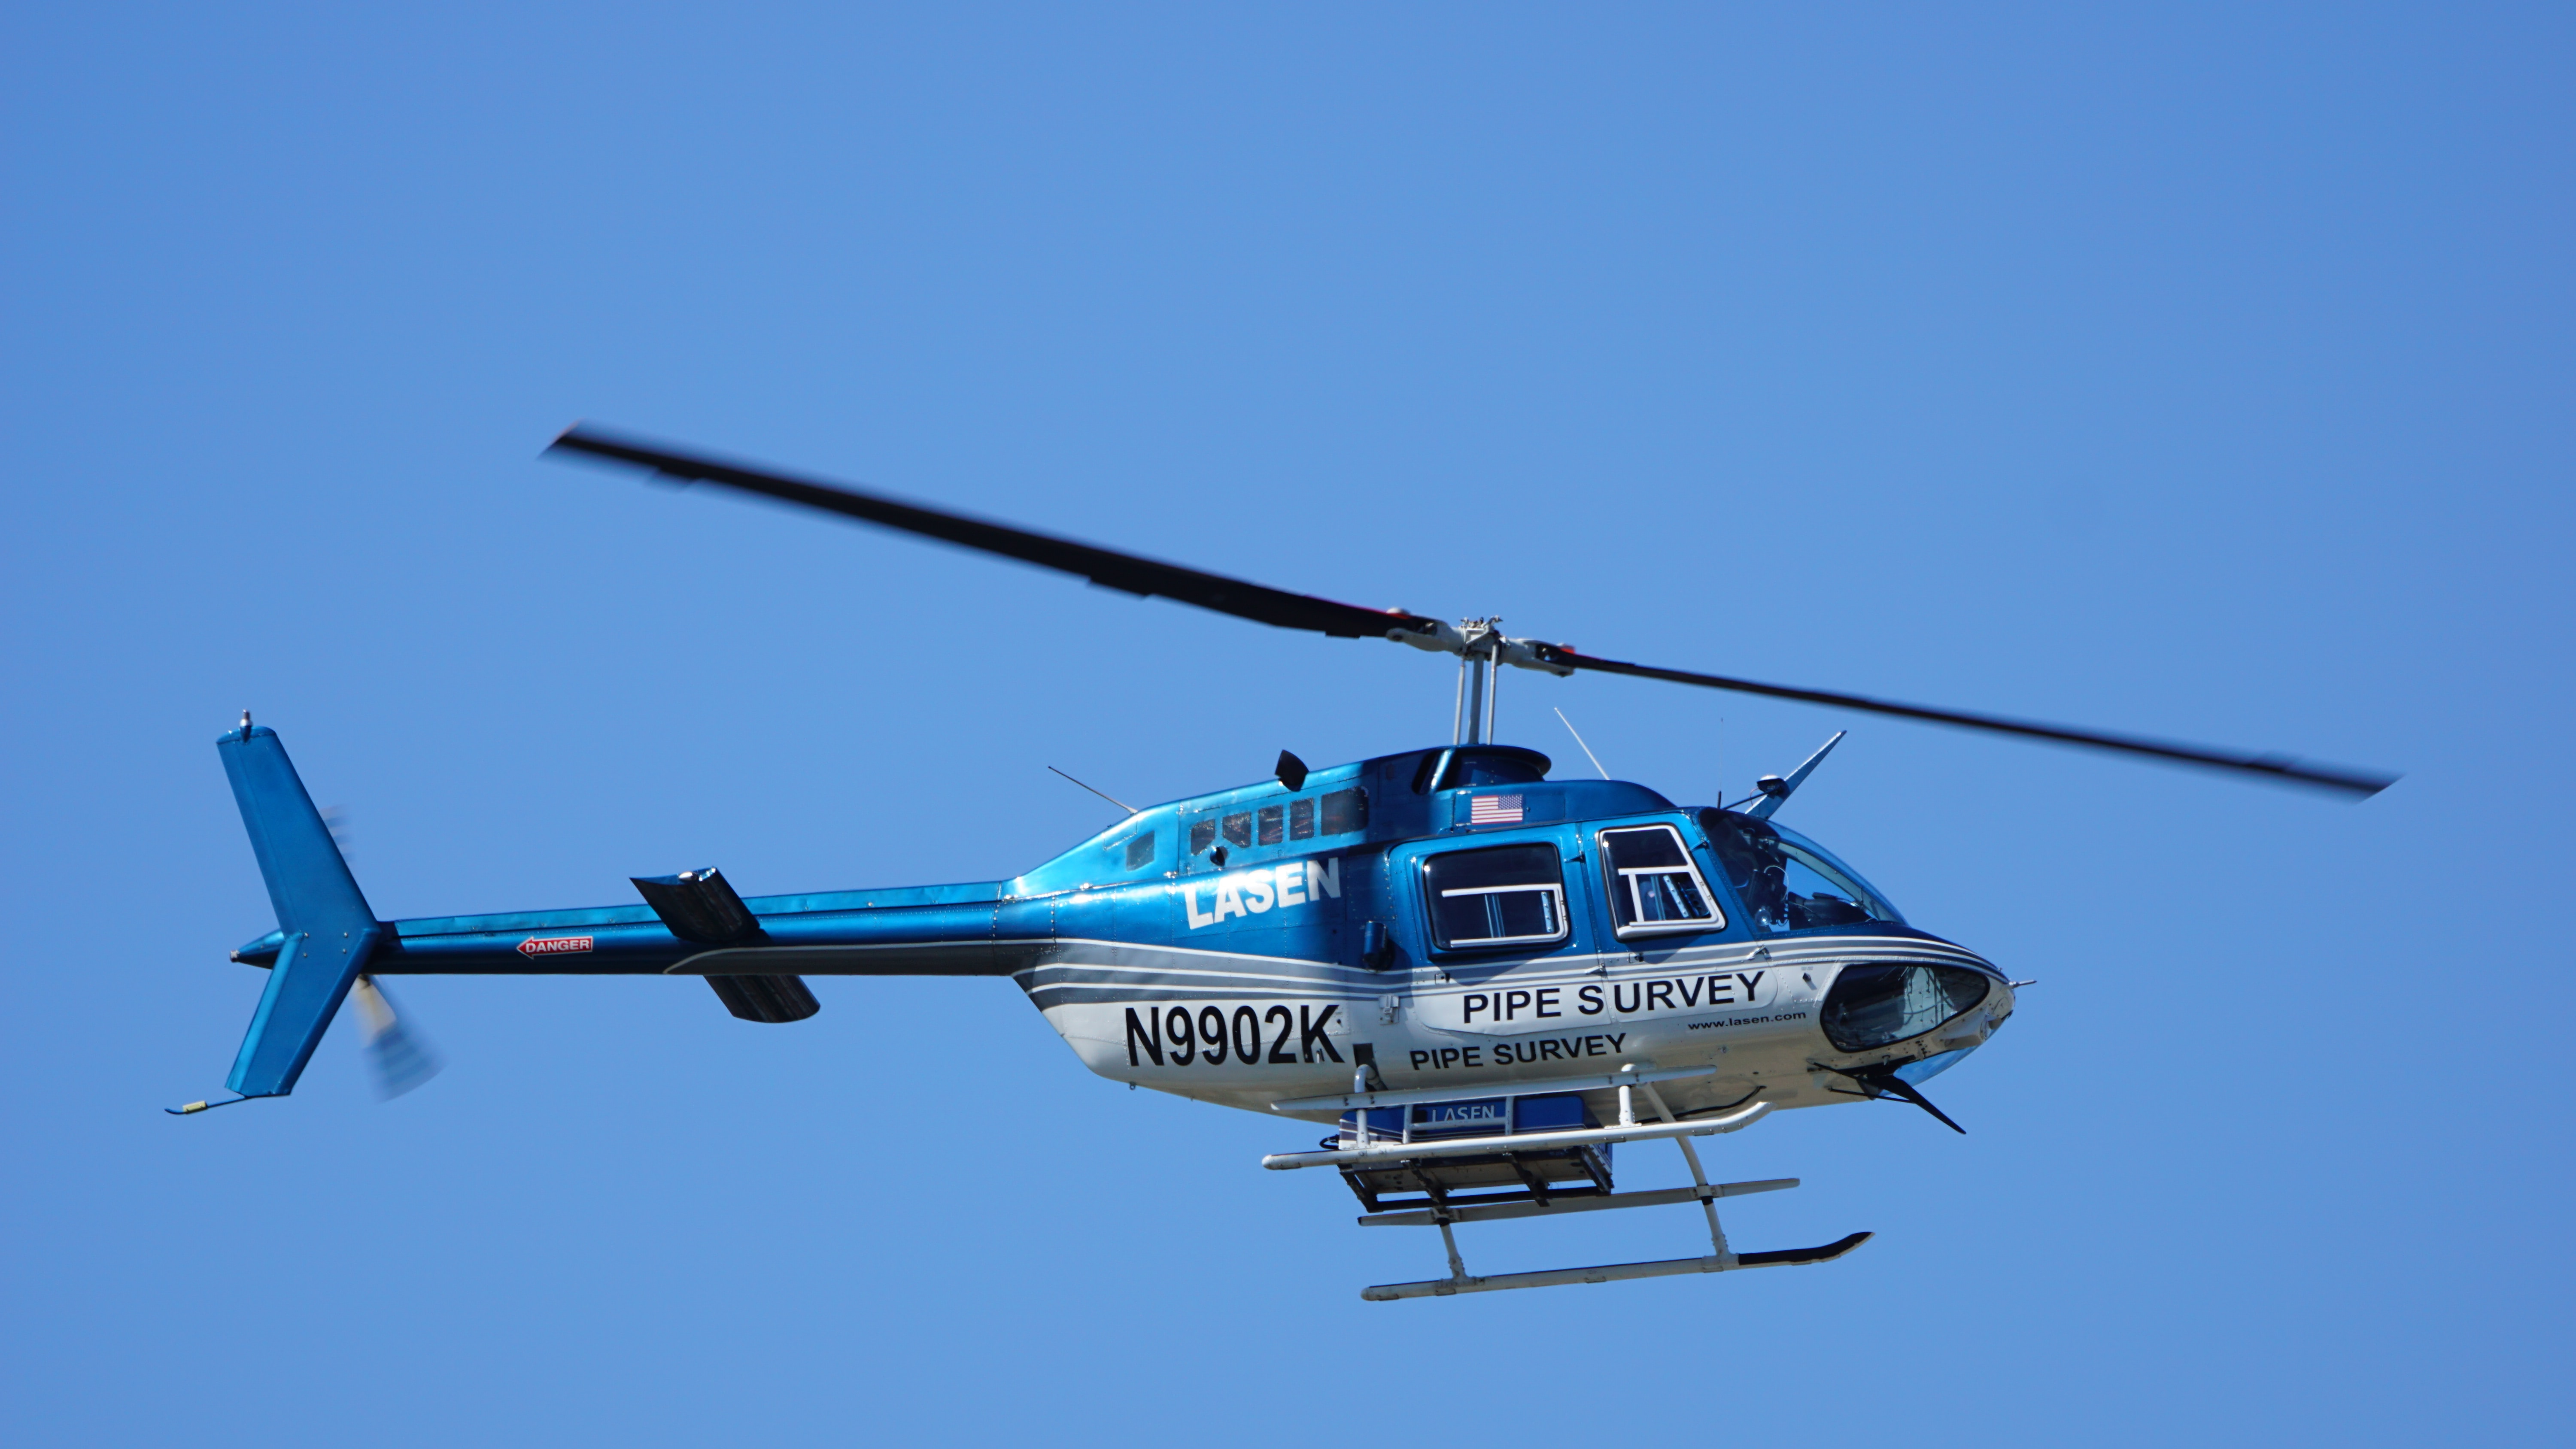helicopter: (65, 218, 2498, 1361)
